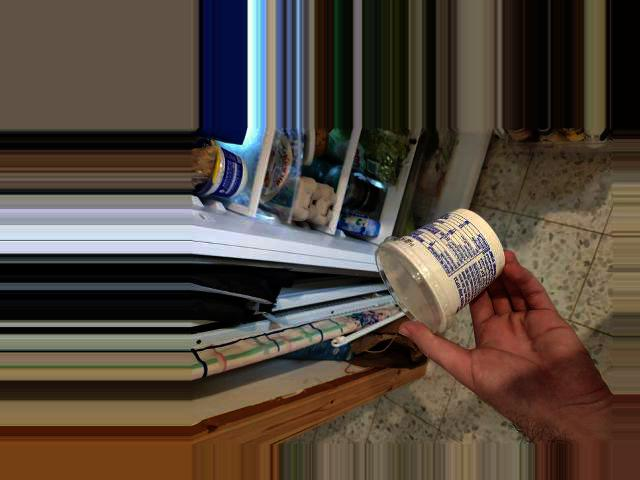cotage: (392, 222, 502, 342)
